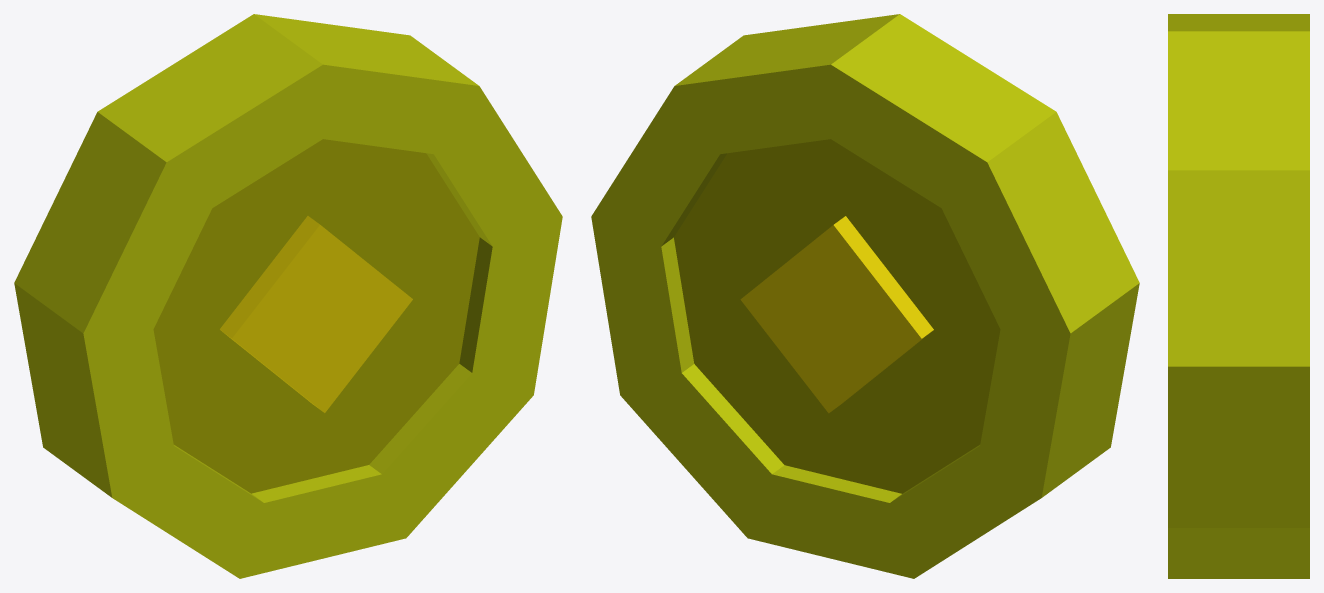
Rendered from coin.glb.
3 views of the same model, side by side, from view 1: azimuth 30°, elevation 25°; view 2: azimuth 150°, elevation 25°; view 3: azimuth 270°, elevation 25° (orthographic). The views are drawn at different scales.
Parts seen in each view (by area): view 1: Cylinder; view 2: Cylinder; view 3: Cylinder.
Part boxes in pixels (x1=…): Cylinder: x1=14, y1=14, x2=562, y2=578; Cylinder: x1=591, y1=14, x2=1139, y2=578; Cylinder: x1=1168, y1=14, x2=1309, y2=578.
Size of the model in its own units: 1.83 by 1.8 by 0.4573.
